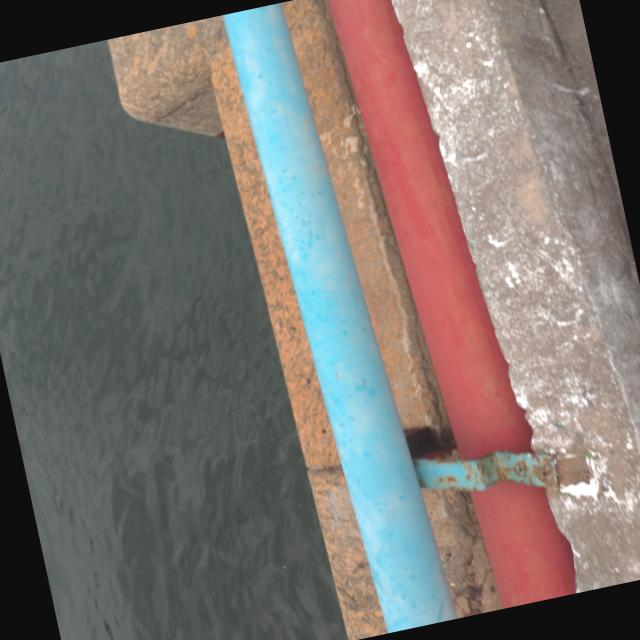gas: (327, 0, 572, 608), (224, 2, 450, 632)
